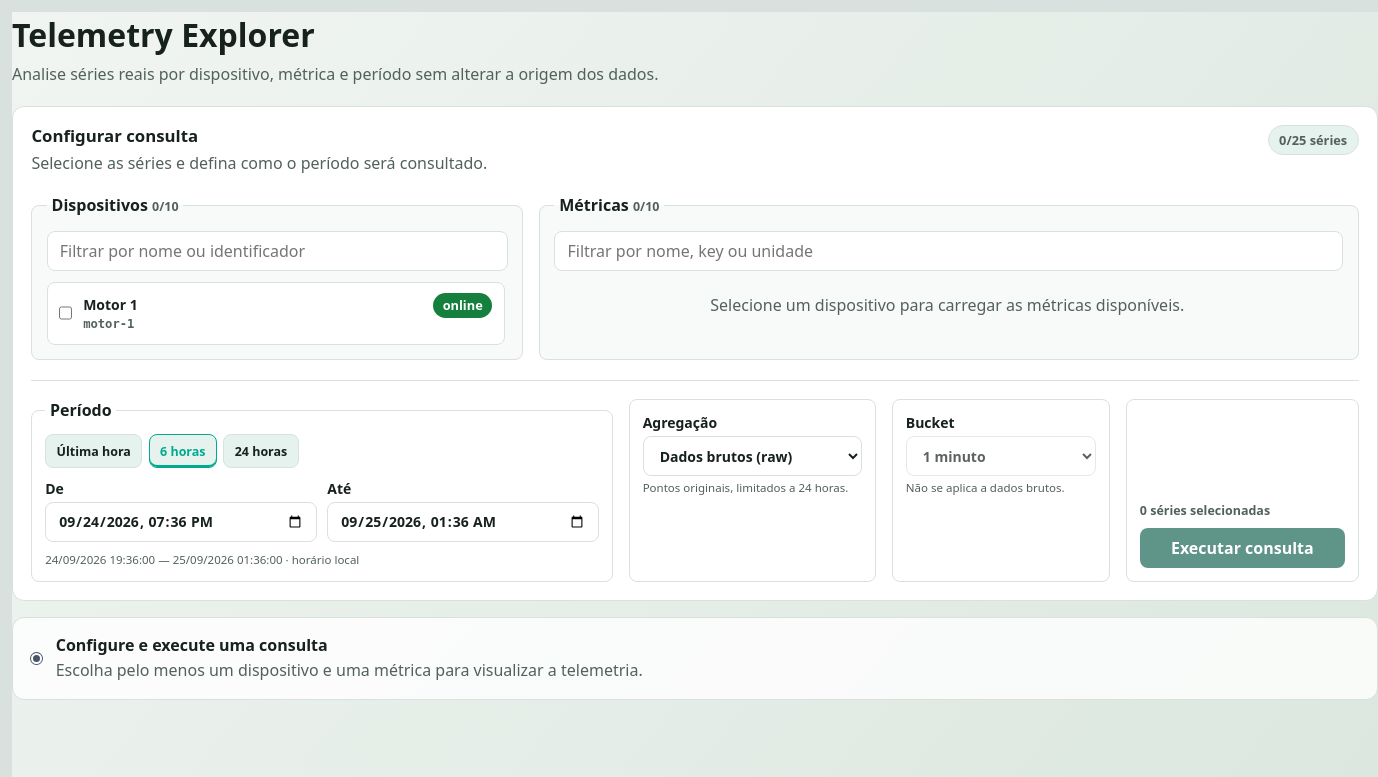
it: TelemetryExplorerPage › renderiza estado vazio útil
The width and height of the screenshot is (1378, 777).
Click the checkbox named "Selecionar dispositivo Motor 1": click(66, 313) [59,293,72,333]
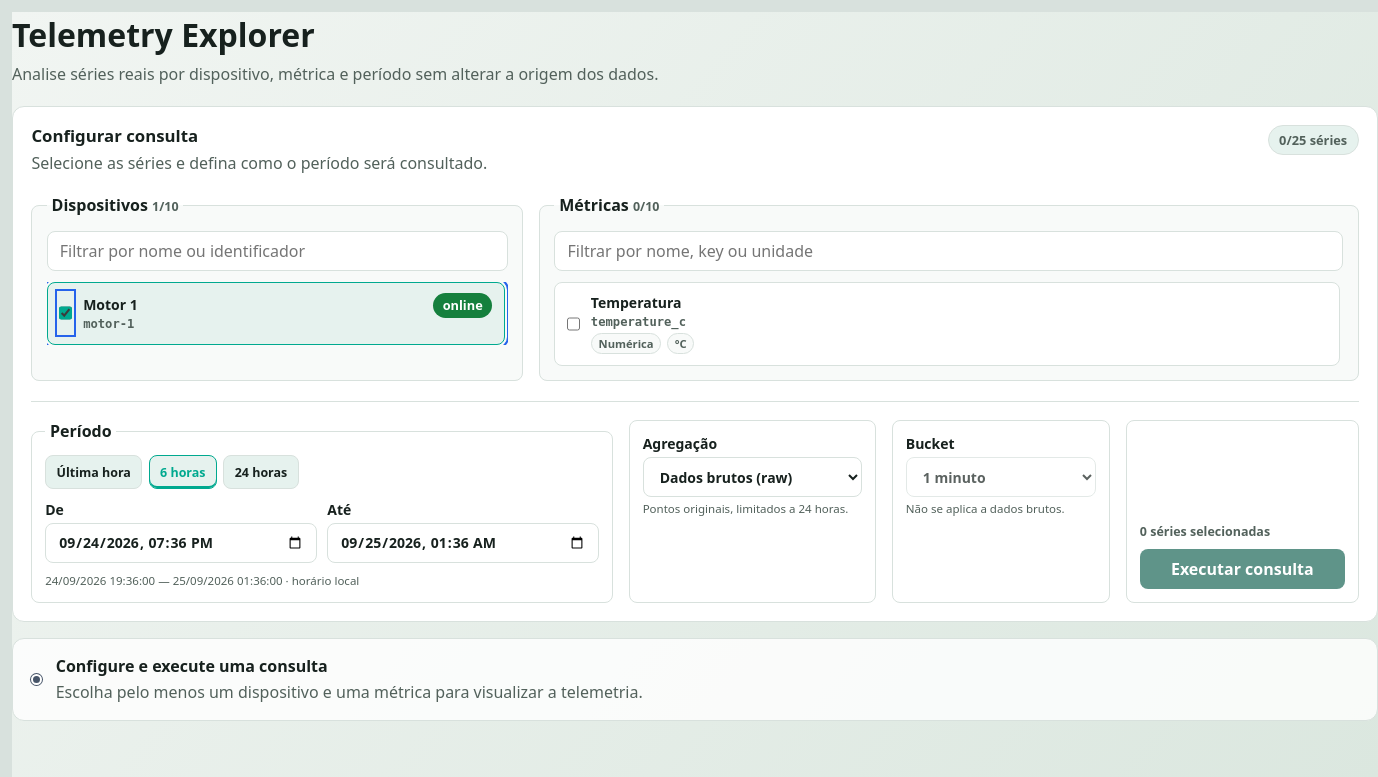
Click the checkbox named "Selecionar métrica Temperatura": click(573, 324) [567,304,580,344]
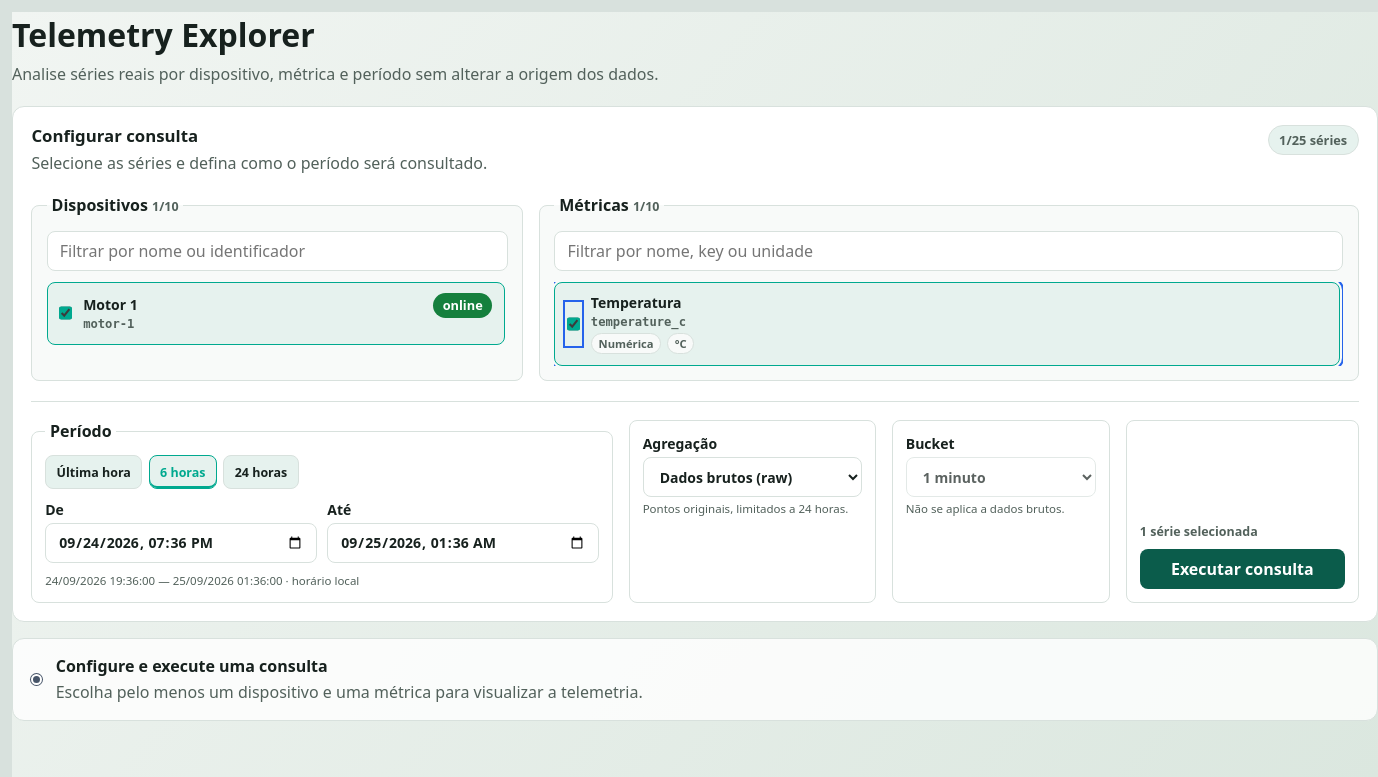
Click the button "Executar consulta": click(1242, 569) [1140,549,1345,589]
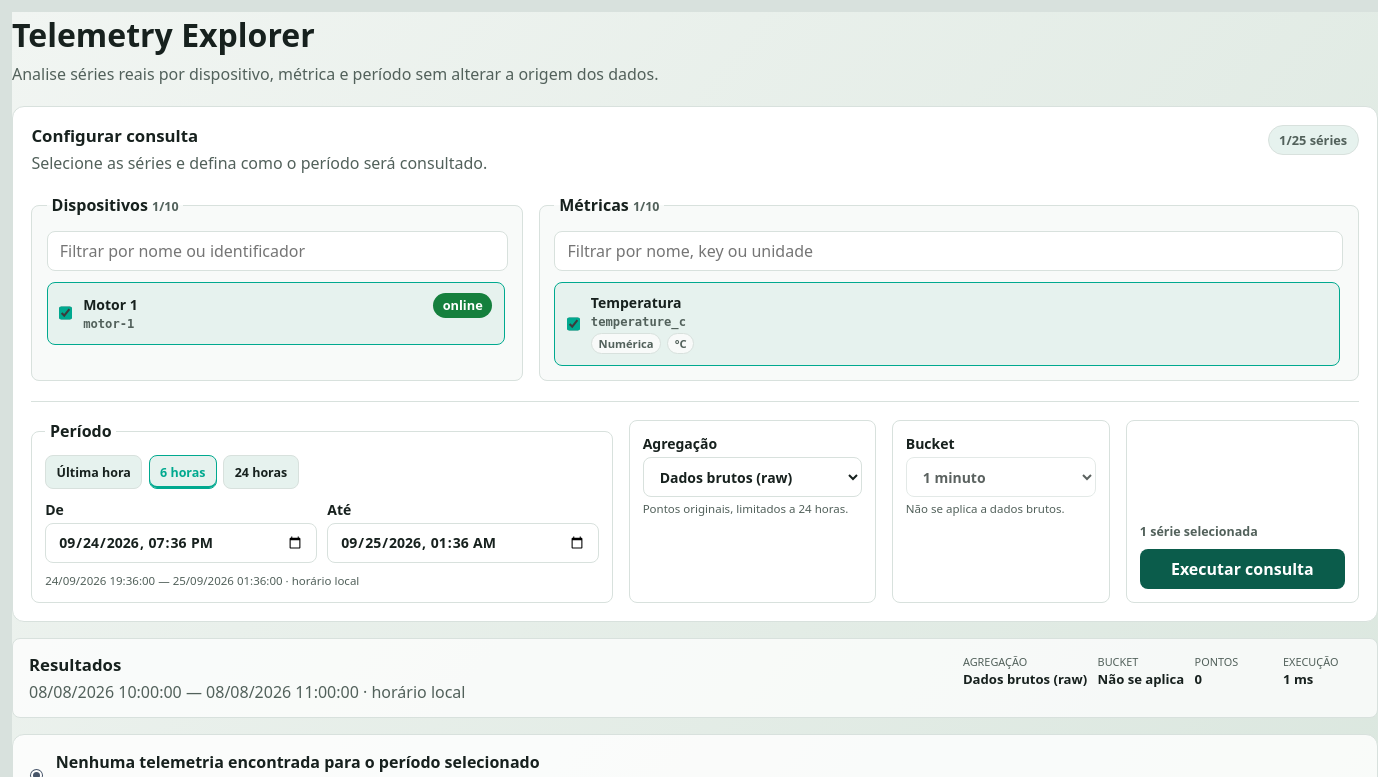
Now the text "Nenhuma telemetria encontrada para o período selecionado" is shown, box [56,751,540,773]
